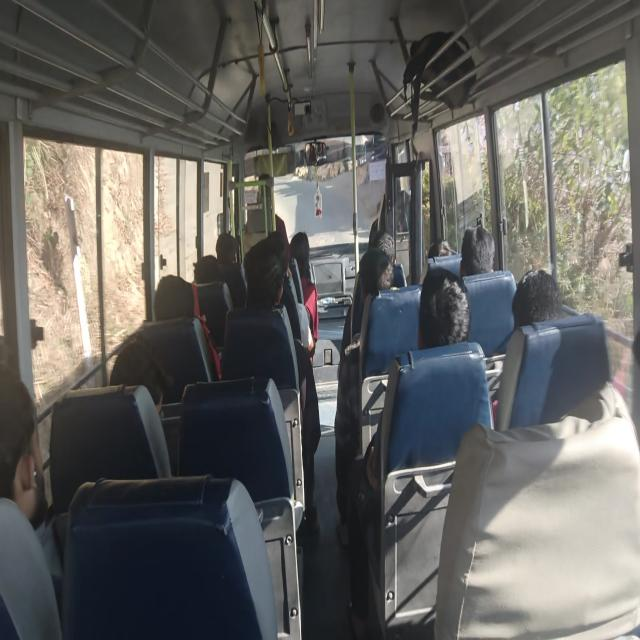person: (433, 381, 640, 639), (350, 266, 494, 636), (238, 233, 320, 532), (364, 266, 471, 490), (334, 232, 396, 546), (0, 369, 63, 638), (491, 268, 563, 420), (153, 274, 221, 380), (109, 337, 173, 418), (418, 266, 470, 350), (289, 231, 319, 355), (511, 268, 563, 328), (215, 231, 247, 309), (459, 224, 495, 277), (369, 230, 395, 263), (193, 254, 219, 284), (427, 237, 455, 258)
